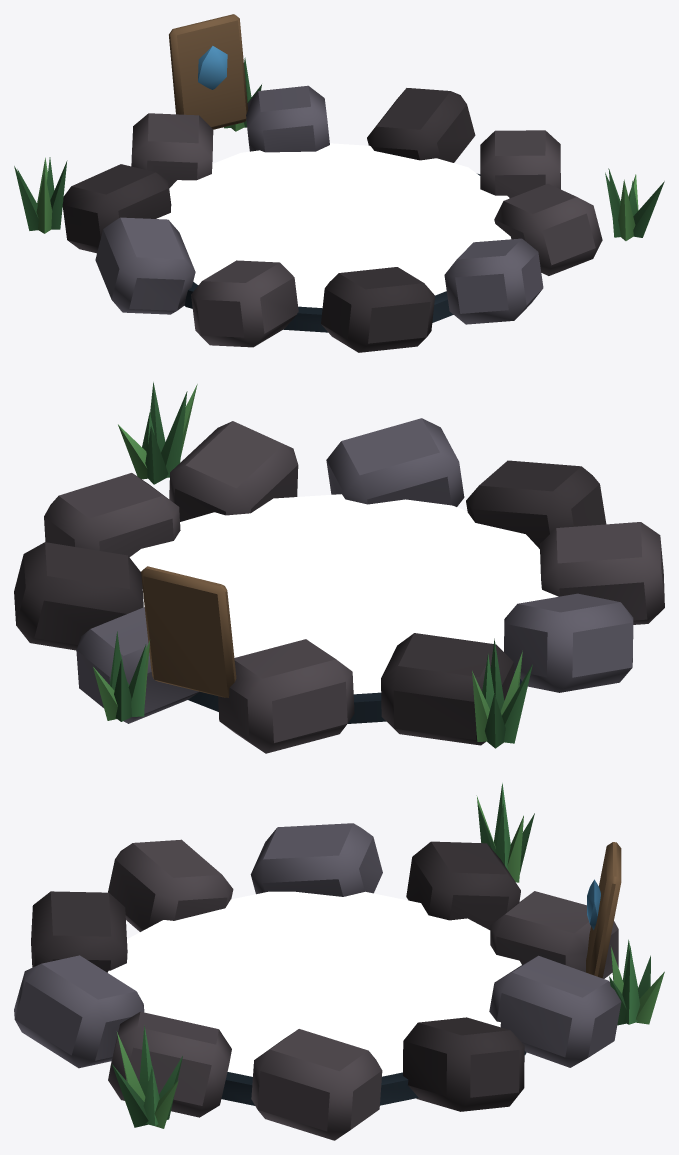
Rendered from p_vk_spring.glb.
3 views of the same model, one above another, from view 1: azimuth 30°, elevation 25°; view 2: azimuth 150°, elevation 25°; view 3: azimuth 270°, elevation 25° (orthographic). The views are drawn at different scales.
Visible parts, largest first — view 1: body, water_glow; view 2: body, water_glow; view 3: body, water_glow.
Part boxes in pixels (<box>): body: <box>14,14,664,352</box>; water_glow: <box>156,143,511,307</box>; body: <box>14,382,664,753</box>; water_glow: <box>129,494,558,694</box>; body: <box>14,783,664,1140</box>; water_glow: <box>107,891,521,1076</box>.
Bounding box in the file's own units: 3.47 × 0.9895 × 3.52.
